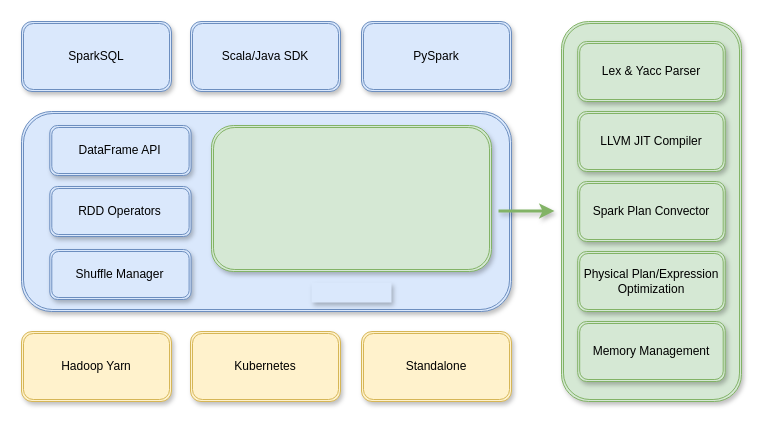
The diagram is 765 pixels wide and 426 high, and some of its shapes have lost their labels. The shapes that lost their labels are listed below. From the top down, each one's centre as x and y in pixels, then its label:
At pixel 352 199: "SparkFE The Native Spark Execution Engine For FE".
At pixel 352 293: "Spark Core".
